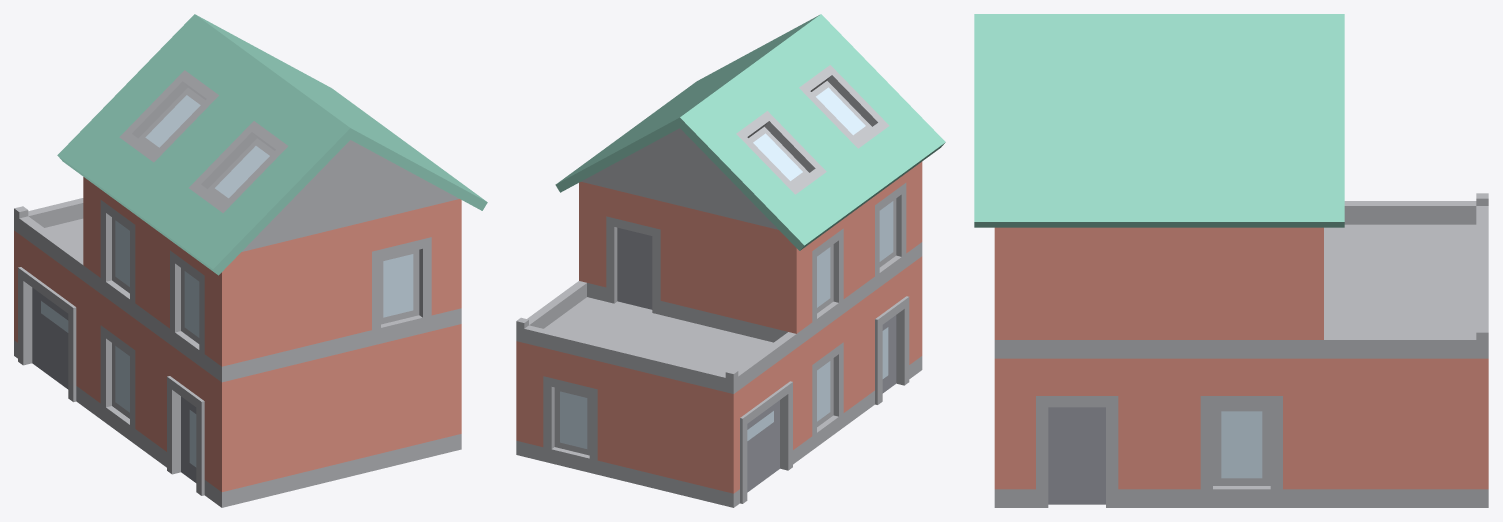
Rendered from house18.fbx.
The picture shows the model from 3 angles, left to right: view 1: azimuth 30°, elevation 25°; view 2: azimuth 150°, elevation 25°; view 3: azimuth 270°, elevation 25°; orthographic projection. The views are drawn at different scales.
Visible parts, largest first — view 1: house_type18; view 2: house_type18; view 3: house_type18.
Boxes of the visible parts, left/top/right/bottom form: house_type18: left=14, top=14, right=487, bottom=507; house_type18: left=516, top=14, right=945, bottom=507; house_type18: left=974, top=14, right=1488, bottom=507.
Bounding box in the file's own units: 916 × 1138 × 1250.
